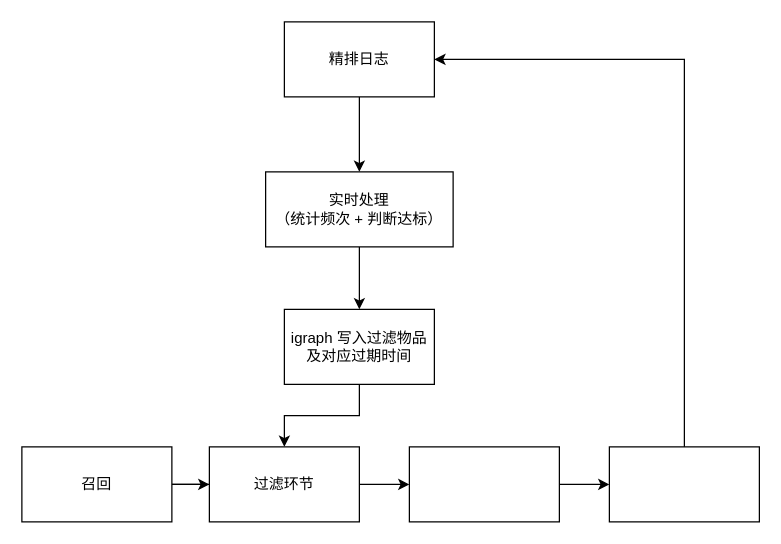
The diagram is 781 pixels wide and 544 high, and some of its shapes have lost their labels. The box of each missing label's shape, as (x1, y1, x2, y2) in pixels:
粗排: (408, 446, 559, 522)
精排: (608, 446, 759, 522)
